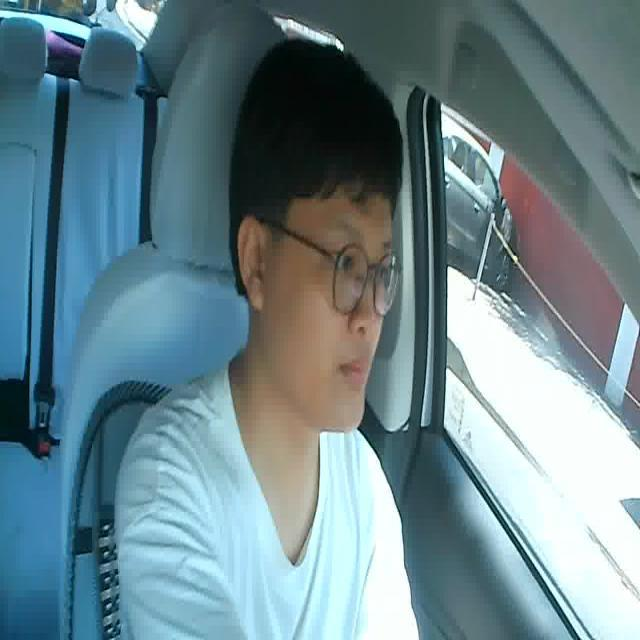Attentive: (230, 37, 406, 433)
Eye-Open: (331, 251, 356, 274), (367, 259, 389, 281)
Normal: (334, 352, 374, 389)
